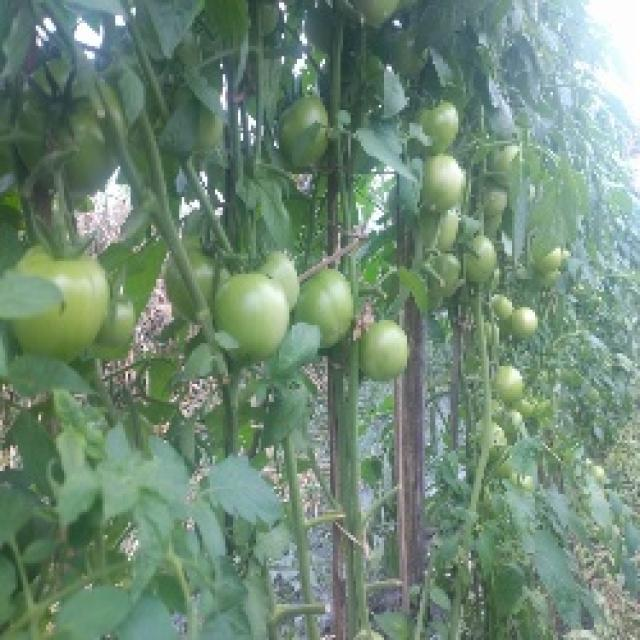tomato: (25, 65, 124, 185), (20, 246, 111, 366), (216, 272, 306, 345), (301, 261, 359, 350), (172, 234, 224, 315), (361, 319, 419, 389), (423, 150, 469, 218), (288, 97, 334, 163), (465, 232, 512, 291), (107, 283, 141, 346), (429, 97, 466, 141), (484, 179, 518, 221), (501, 362, 528, 400), (511, 305, 541, 338), (500, 410, 533, 439), (357, 1, 398, 23), (498, 294, 516, 329), (547, 251, 570, 278)
